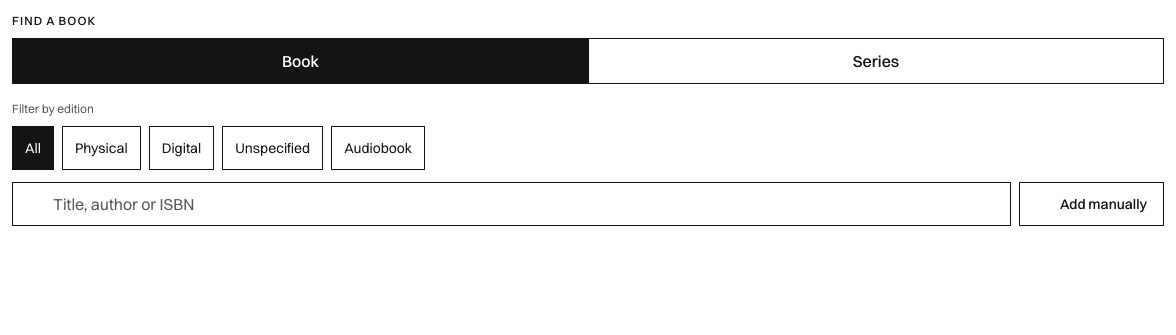
Test: filters editions above the search field without losing the query
Expected: the button "All" is shown, [12,126,54,170]
Expected: the button "Physical" is shown, [62,126,141,170]
Type "dune" into the search field named "Search books".
click(511, 204); type("dune")  # box [12,182,1011,226]
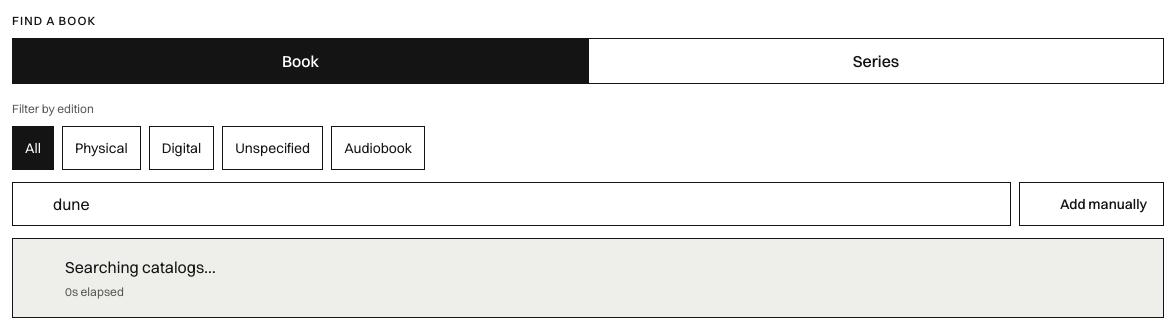
Click the button "Physical".
click(101, 148)  # box [62,126,141,170]
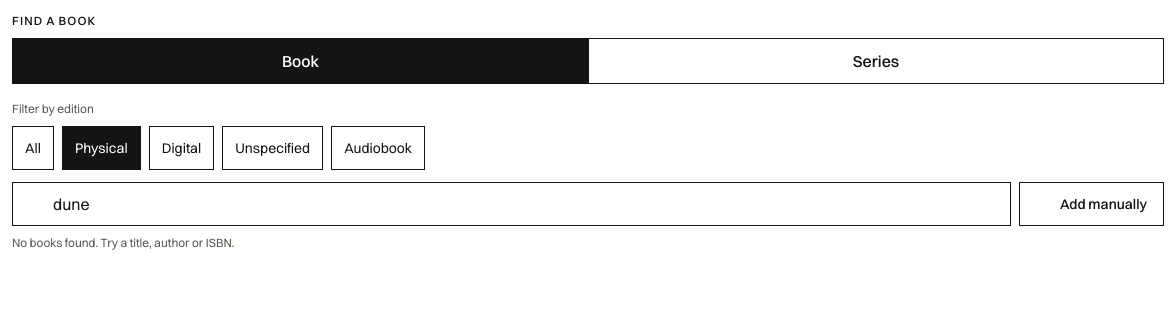
Click the button "All".
click(33, 148)  # box [12,126,54,170]
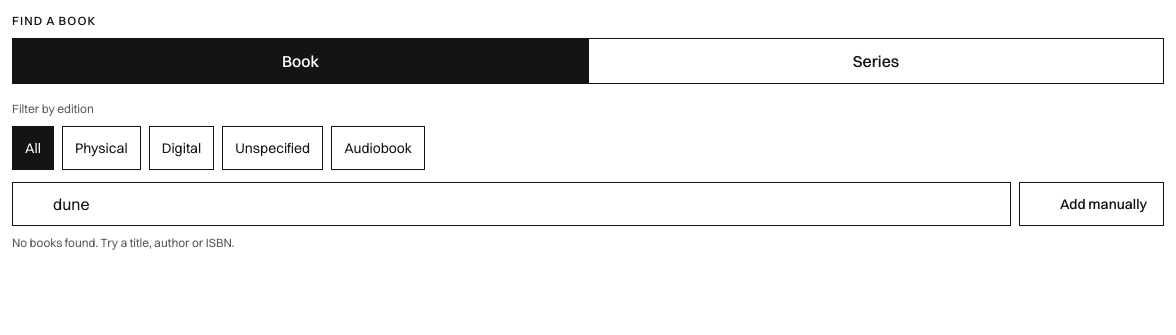
Click the button named "Clear search".
click(988, 204)  # box [966,182,1010,226]
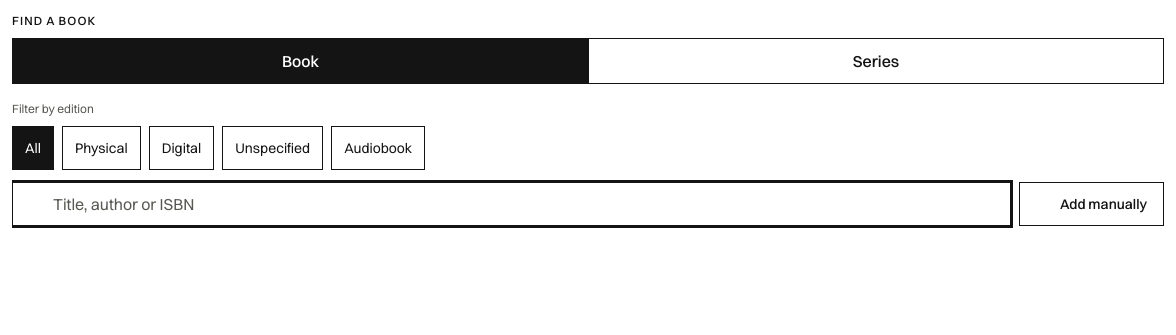
Expected: the search field named "Search books" is empty, [12,182,1011,226]
